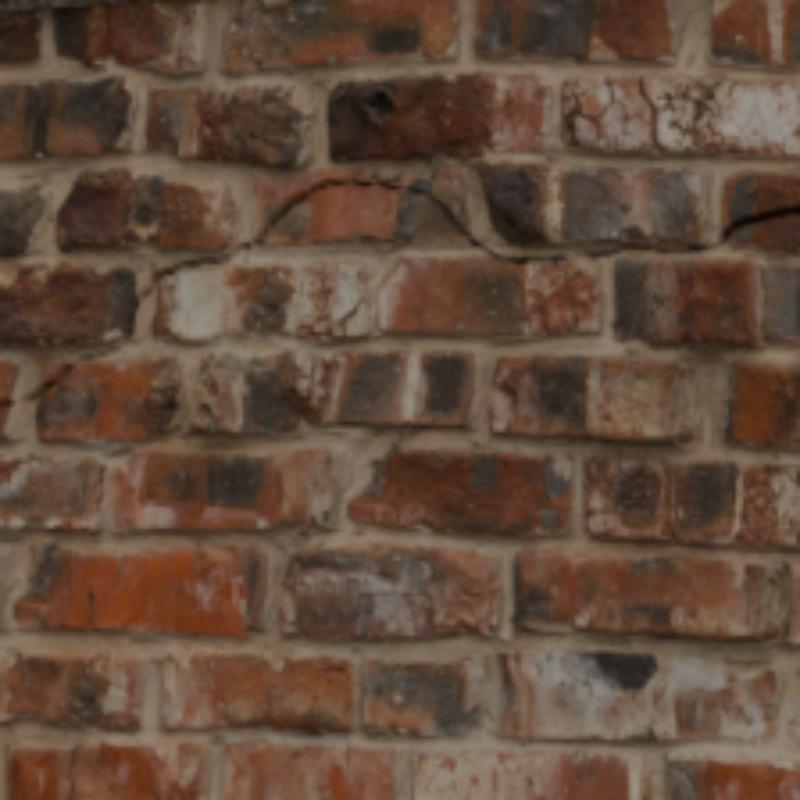crack: (4, 180, 800, 409), (639, 79, 668, 154), (64, 750, 79, 796)
